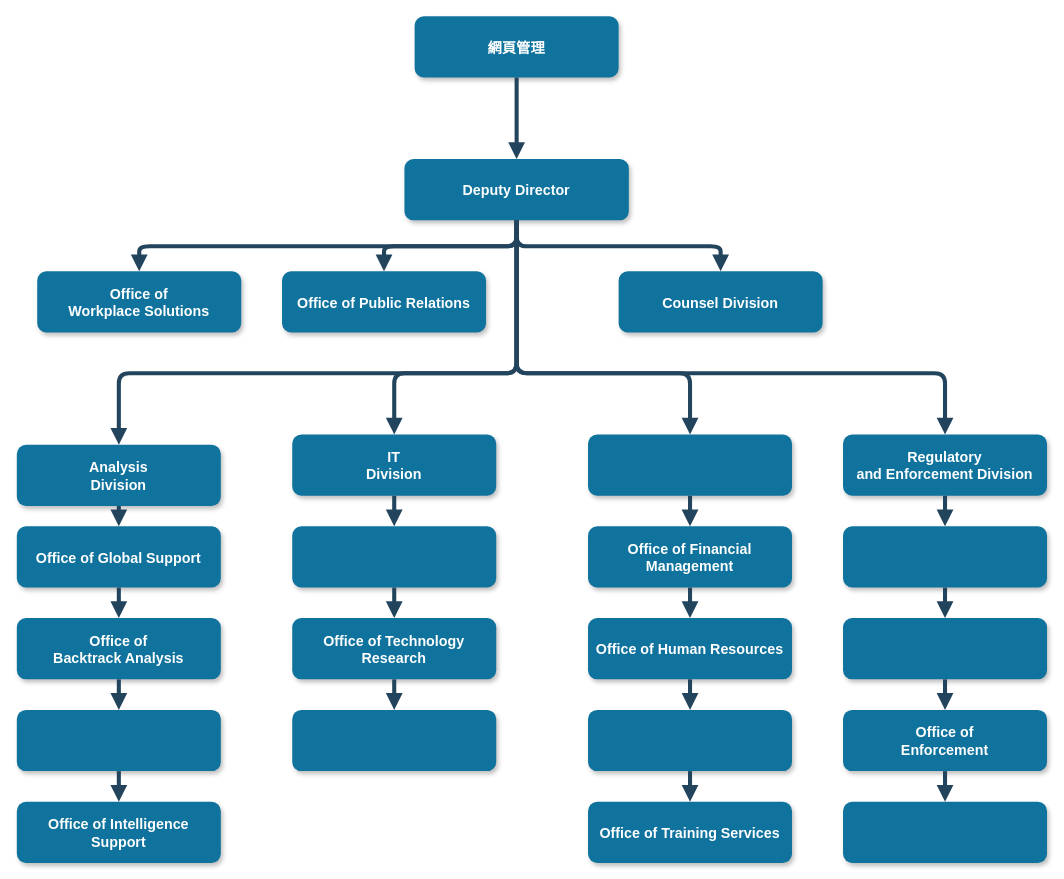
The diagram is 1064 pixels wide and 879 high, and some of its shapes have lost their labels. Here are the shapes that lost their labels. From the top down, the centre of each, then its label:
(x=690, y=466): Management Programs Division
(x=395, y=558): Database Administration
(x=945, y=558): Office of Regulatory Policy
(x=945, y=650): Office Compliance
(x=119, y=741): Department of Heuristic Support
(x=395, y=741): Office of Data Services
(x=690, y=741): Office of Management
(x=945, y=833): Office of Regulatory Support
